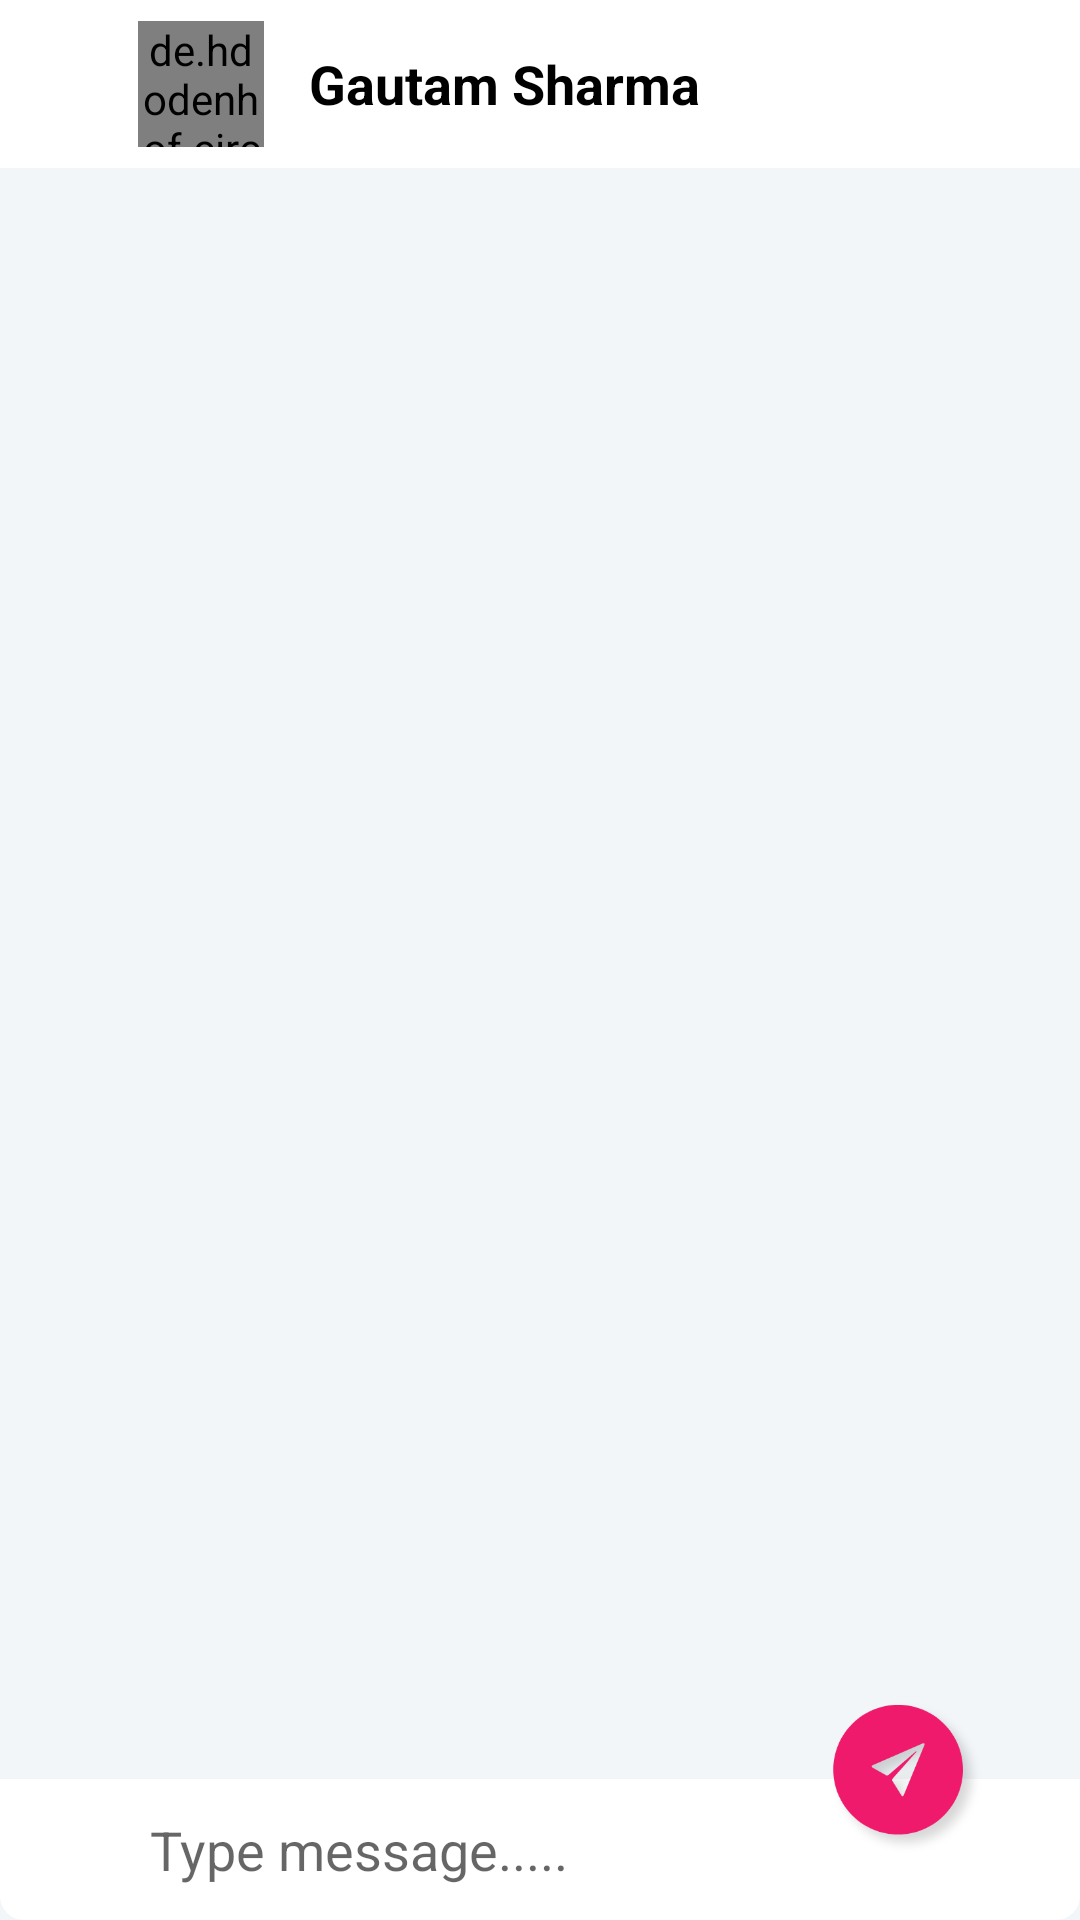

Named icons in this screenshot (1080w x 1920h) and their centers, point (x, y):
sendbutton: point (901, 1771)
